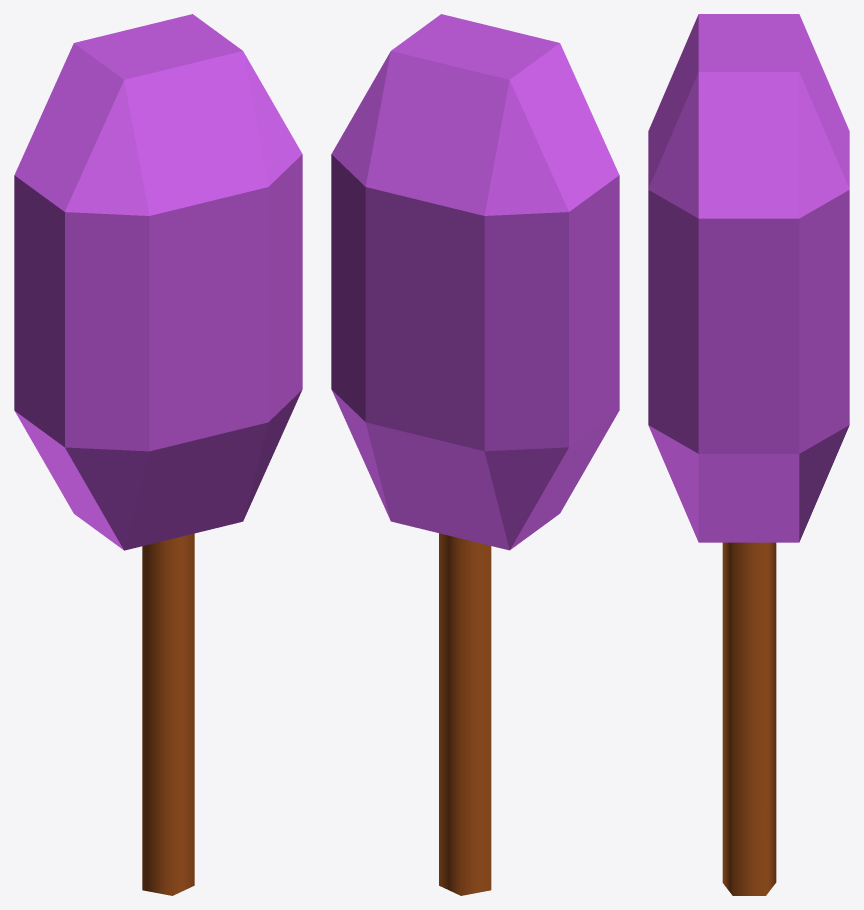
The model's file is Tree1.FBX.
3 views of the same model, side by side, from view 1: azimuth 30°, elevation 25°; view 2: azimuth 150°, elevation 25°; view 3: azimuth 270°, elevation 25° (orthographic).
Visible parts, largest first — view 1: Tree1_b, Tree1_a; view 2: Tree1_b, Tree1_a; view 3: Tree1_b, Tree1_a.
Boxes of the visible parts, x1,y1,x2,y2 form: Tree1_b: (14,14,302,550); Tree1_a: (142,533,194,895); Tree1_b: (331,14,619,550); Tree1_a: (439,533,491,895); Tree1_b: (648,14,849,542); Tree1_a: (722,542,776,895).
Size of the model in its own units: 1761 by 5942 by 1294.
